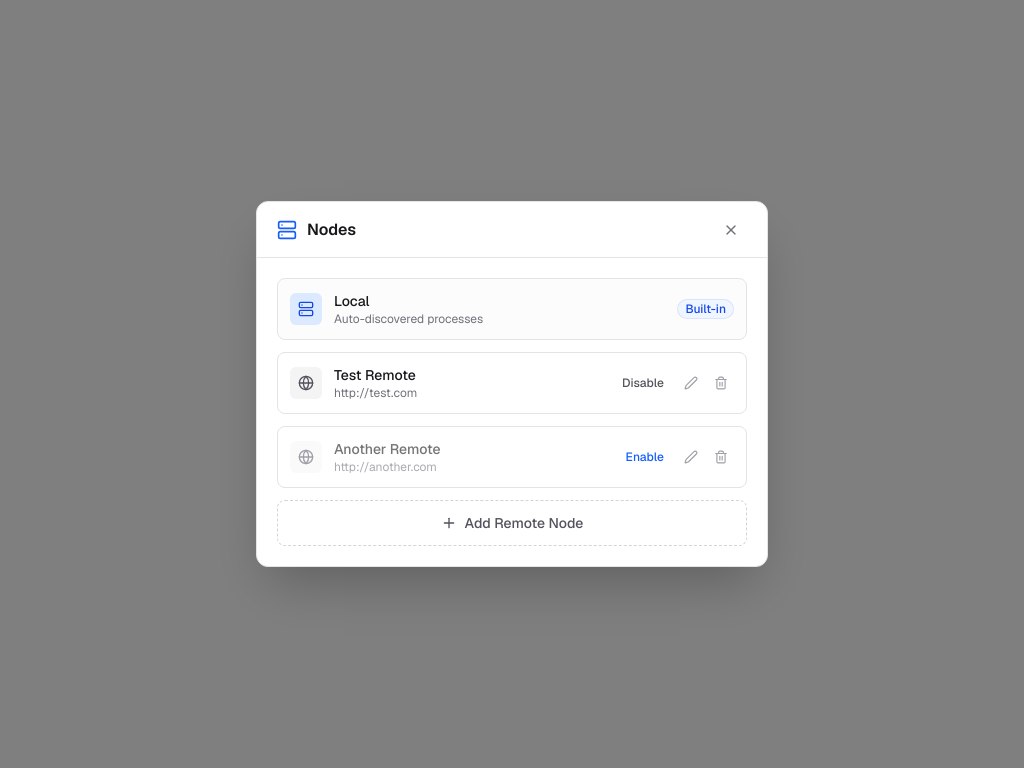
HostManagerDialog › validates URLs on add
The width and height of the screenshot is (1024, 768).
Click the button "Add Remote Node".
click(512, 523)  # box [277,500,747,546]
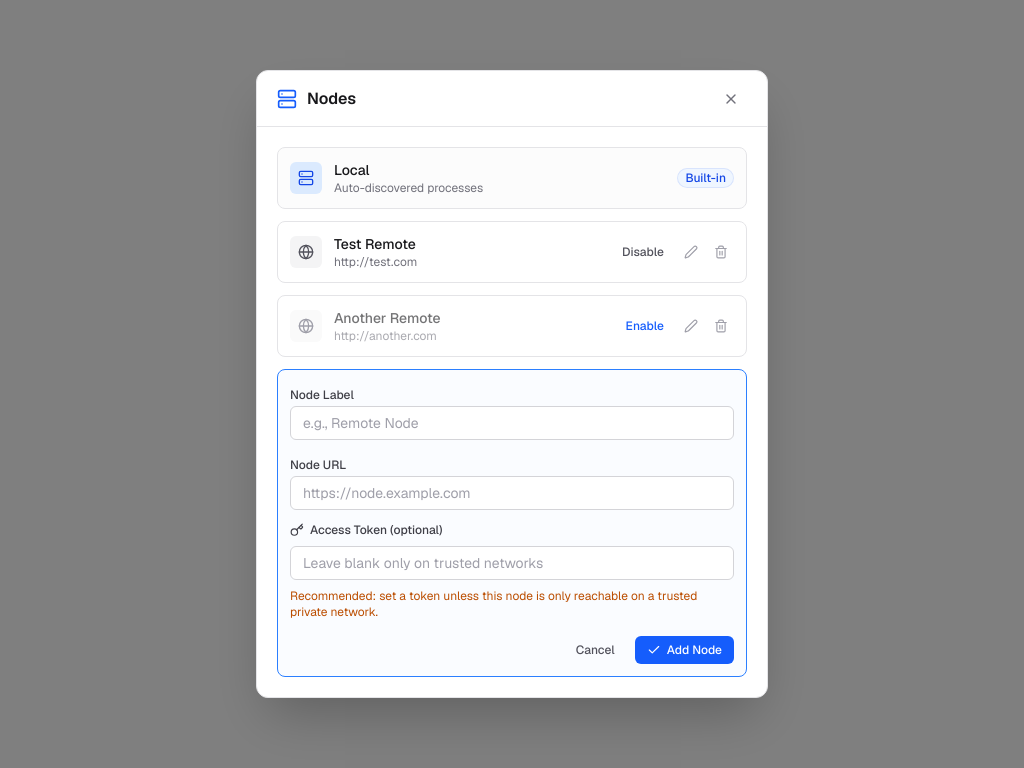
Type "Invalid Host" into the field with test id "host-form-label".
click(512, 423); type("Invalid Host")  # box [290,406,734,440]
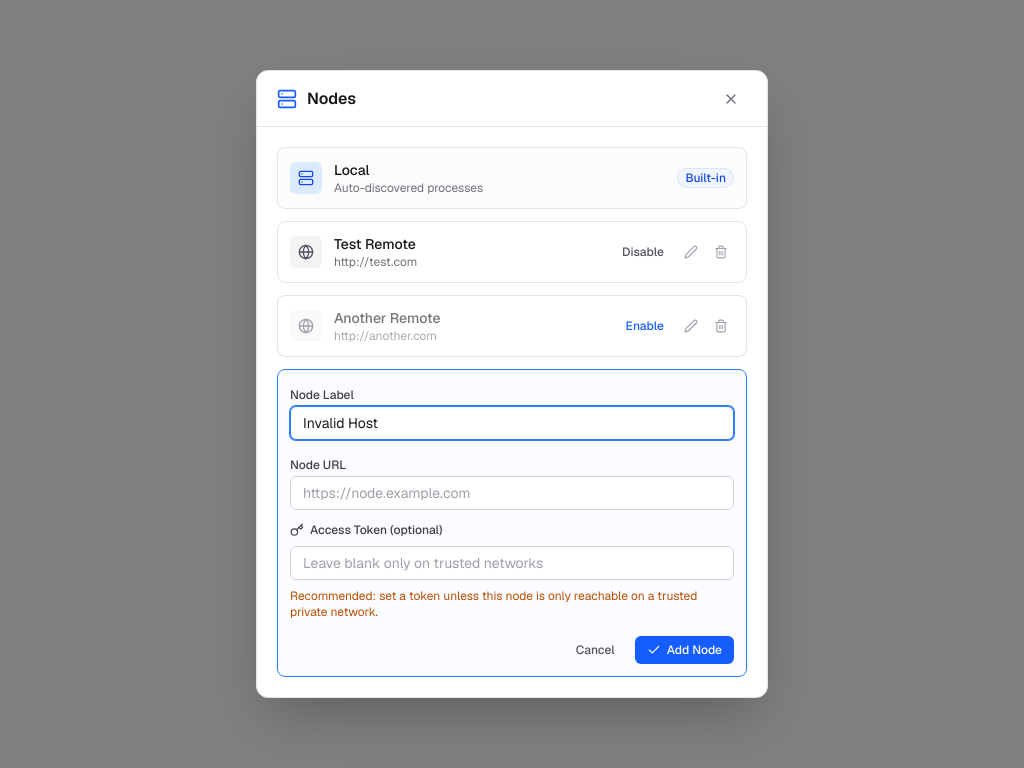
Type "not-a-url" into the field with test id "host-form-base-url".
click(512, 493); type("not-a-url")  # box [290,476,734,510]
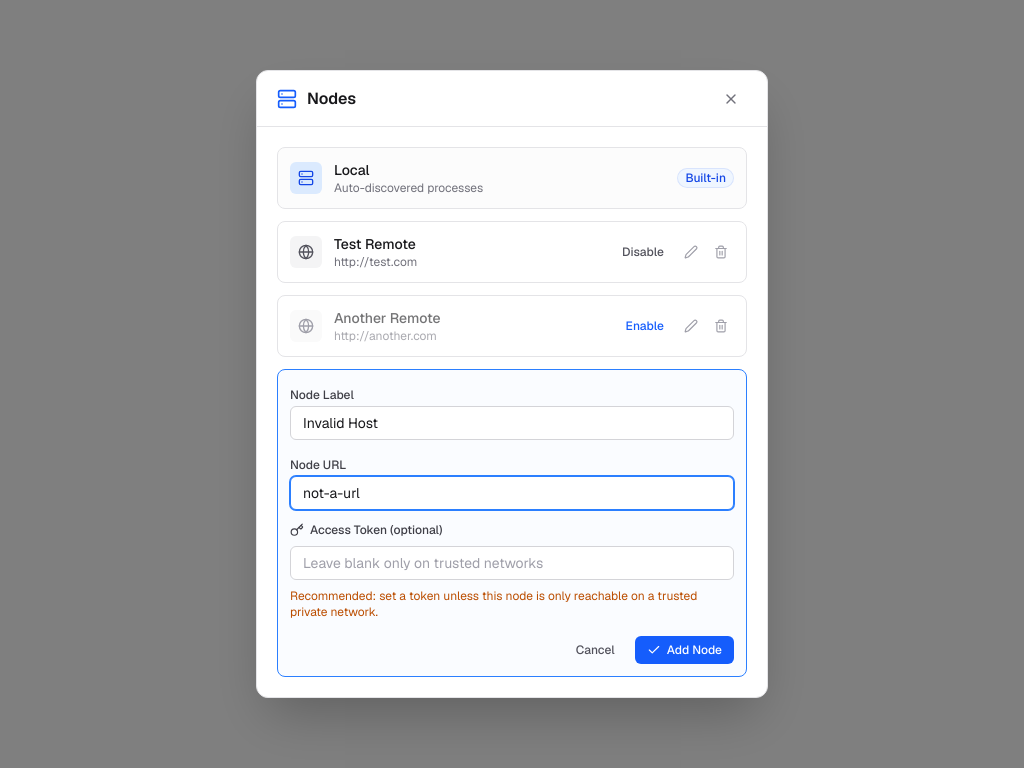
Click the button "Add Node".
click(684, 650)  # box [635,636,734,664]
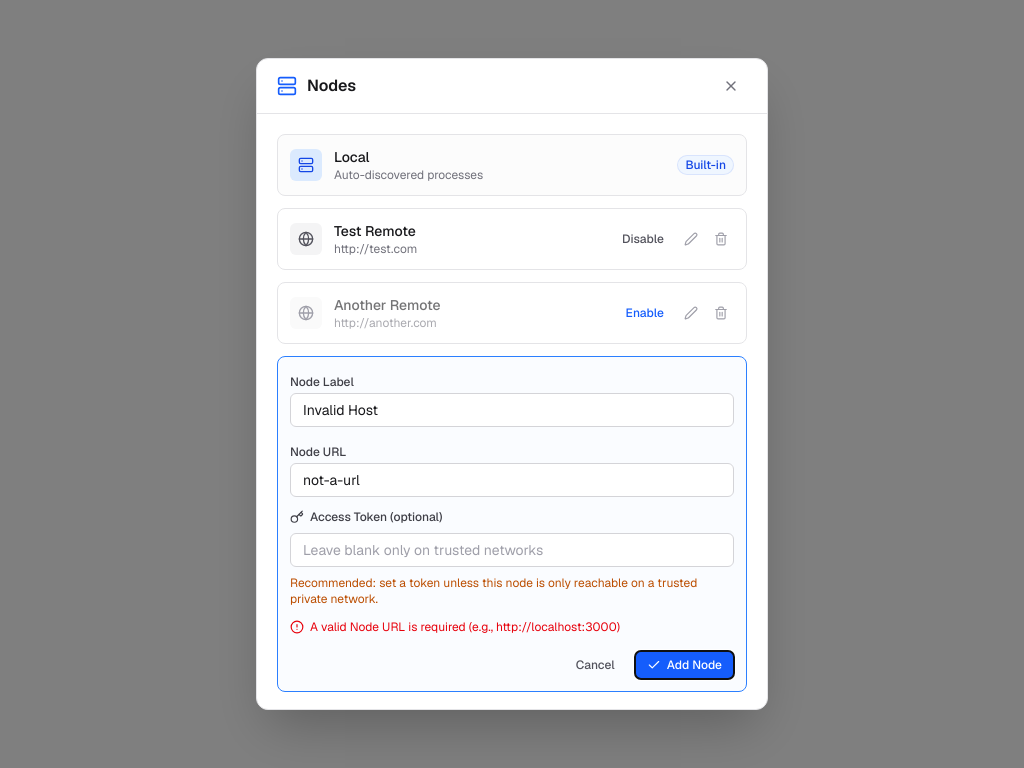
Now the text "A valid Node URL is required (e.g., http://localhost:3000)" is shown, box [310,619,620,635]
